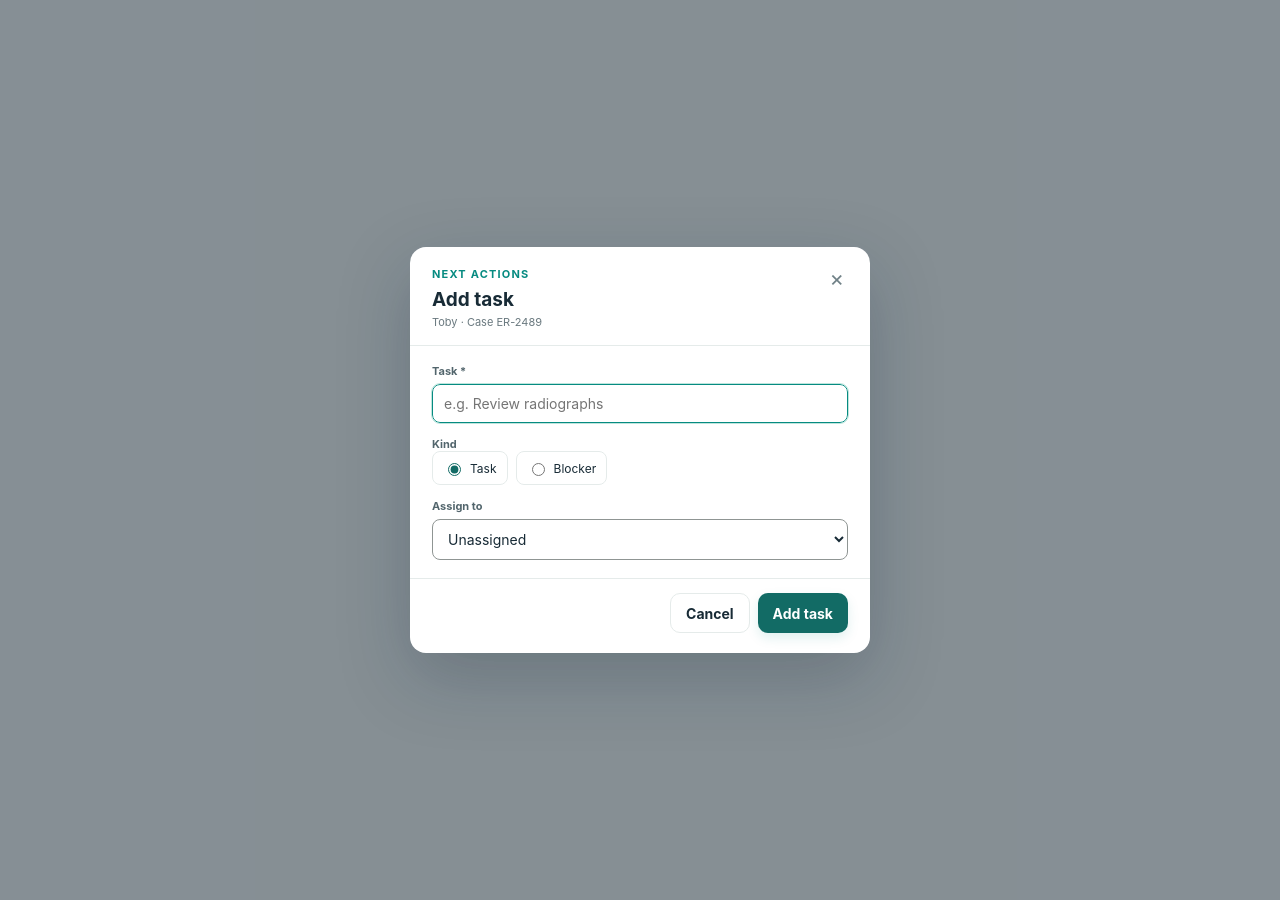
Test: AddTaskDialog › shows the API's field message and keeps what was typed
Type "Long task" into the field labelled "Task *" at (640, 404), box [432,384,848,423]
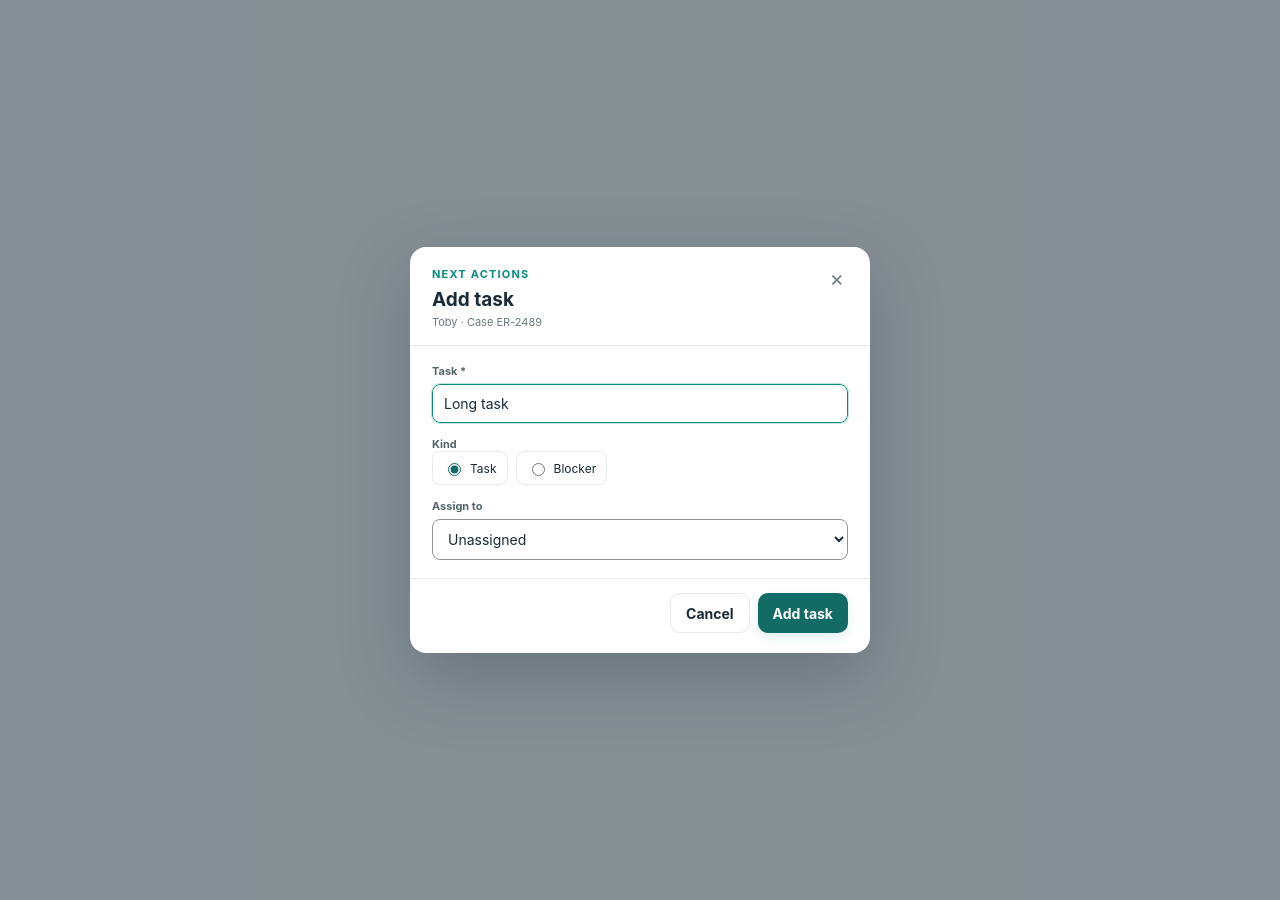
Click the button "Add task" at (803, 613), box [758,593,848,633]
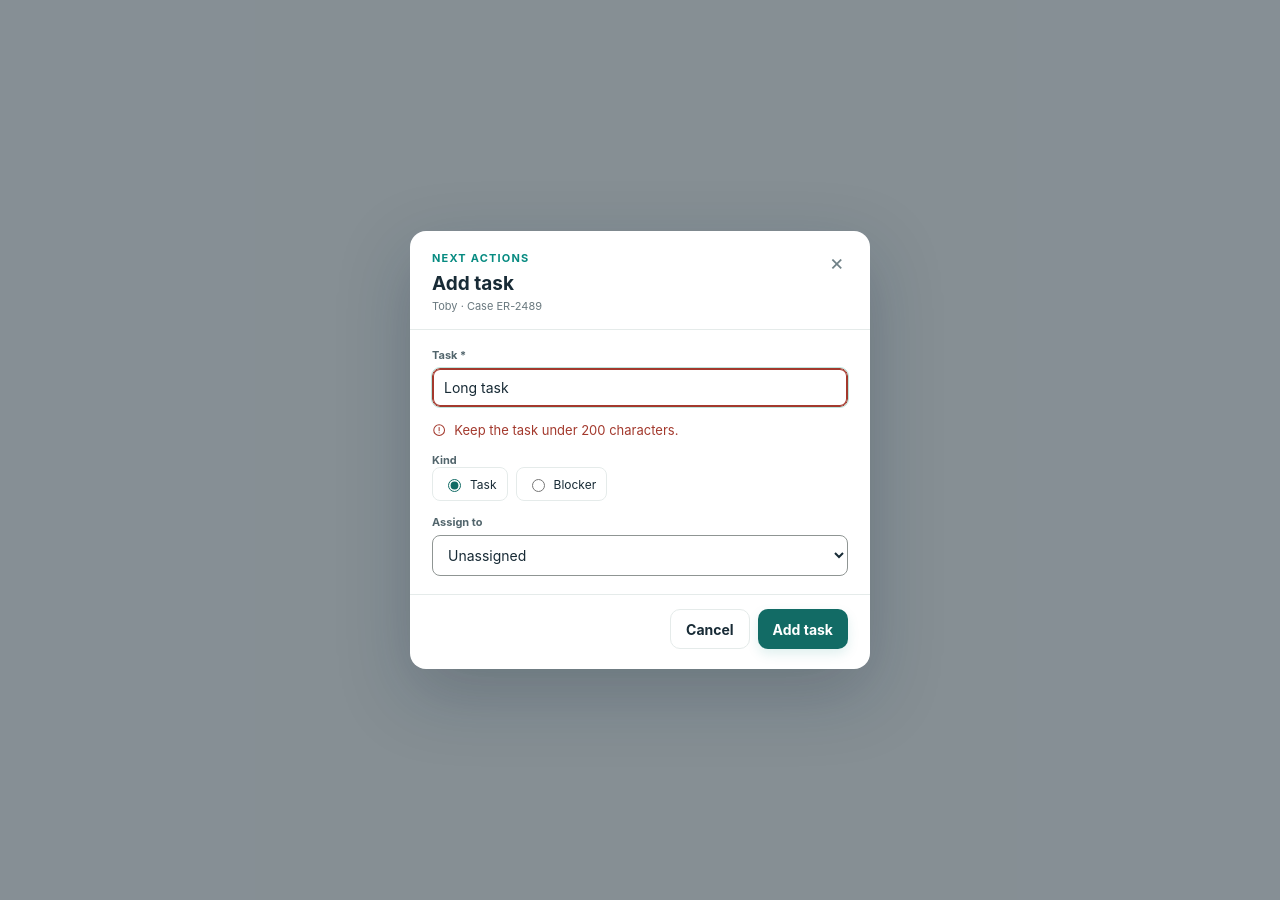
expect the text "Keep the task under 200 characters." is shown: met, box [432,422,678,438]
